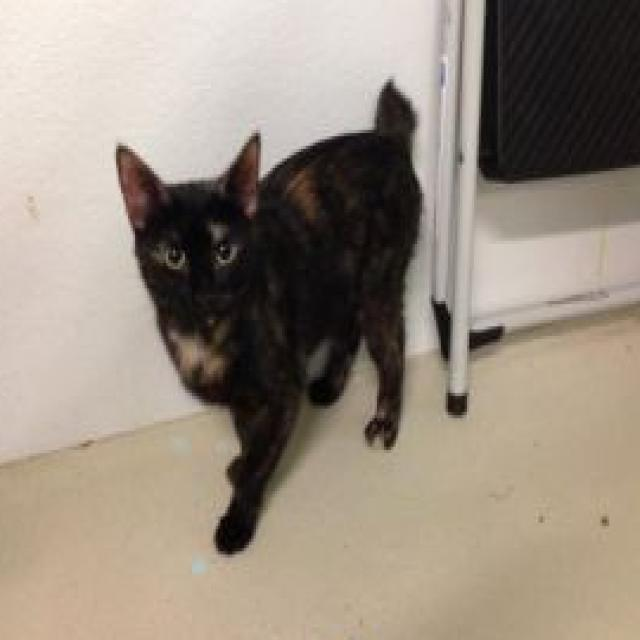American Bobtail: (111, 73, 426, 560)
